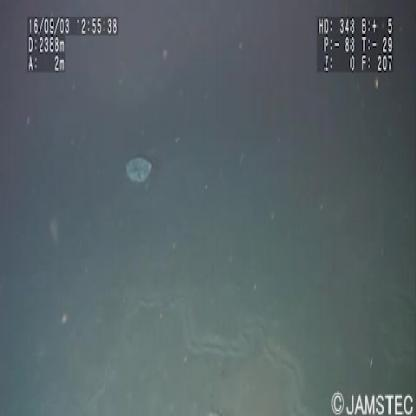Rác: (122, 146, 165, 198)
